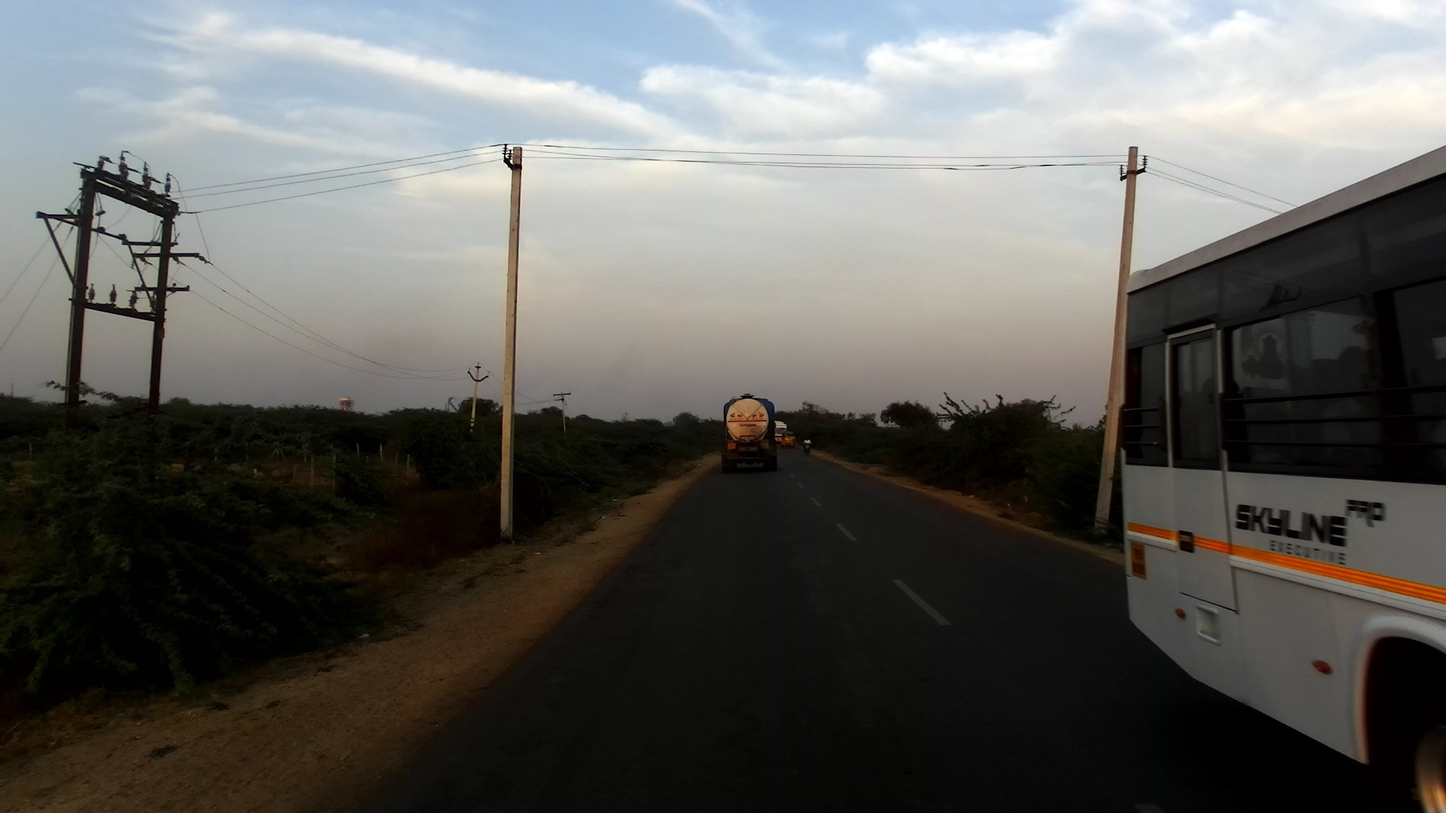autorickshaw: (781, 431, 798, 452)
bus: (1116, 148, 1446, 813), (772, 420, 789, 446)
motorcycle: (804, 444, 813, 460)
rider: (801, 439, 816, 455)
truck: (722, 393, 780, 477)
